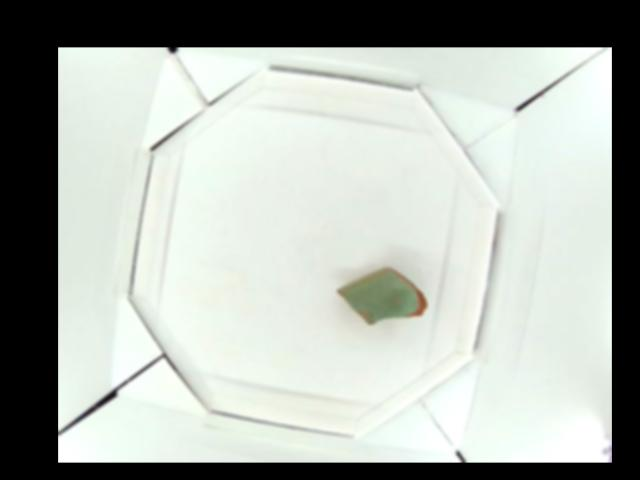China: (336, 265, 428, 322)
